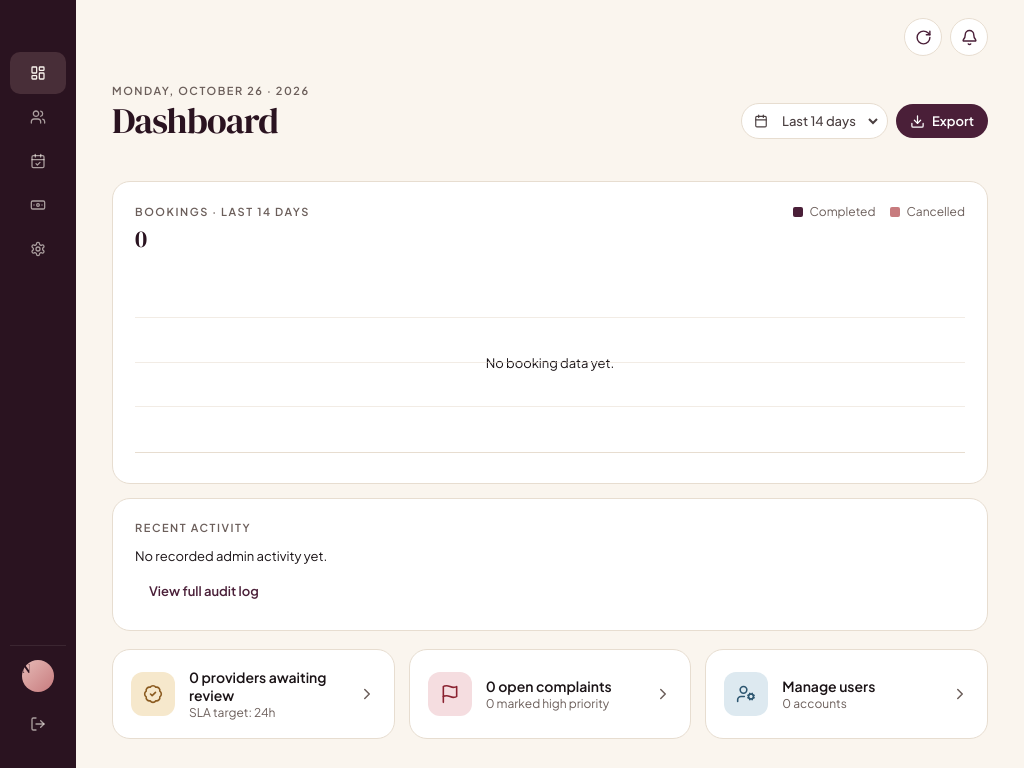
Test: <App> — CR-22 session start › shows no admin identity and no admin action until /auth/me answers
Expected: the button "Settlements" is not shown
Expected: the text "Commission rate" is not shown
Step 1. Click the 4th button named "Settlements" → {"x": 38, "y": 205}, box x1=10 y1=184 x2=66 y2=226
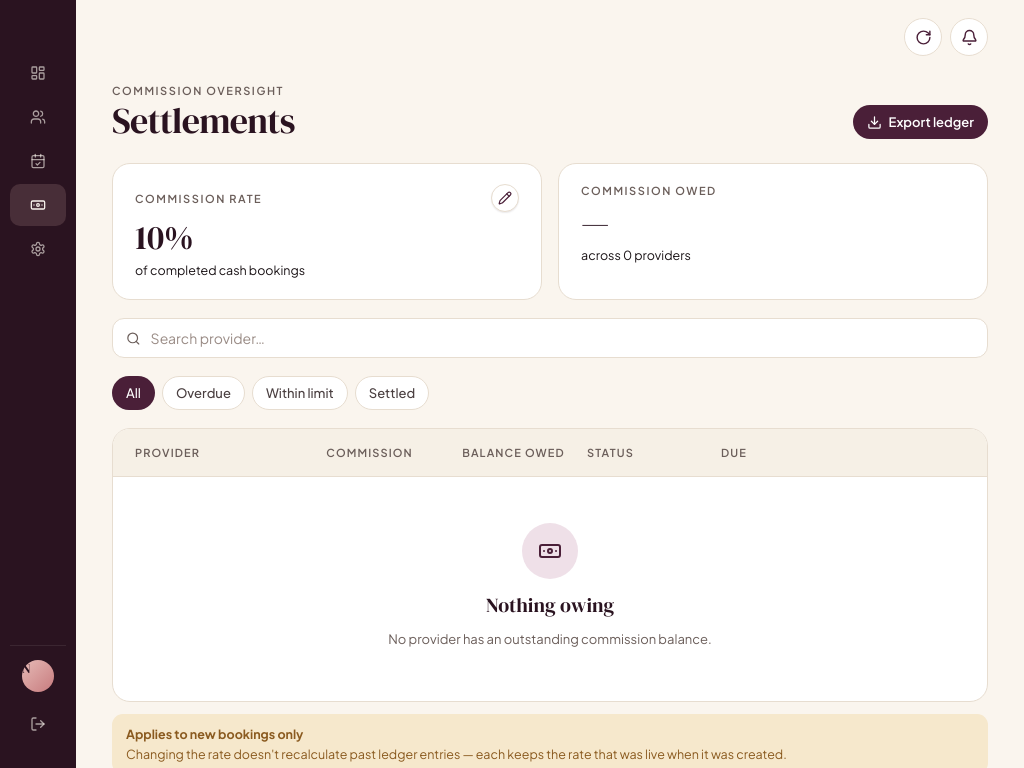
Now the text "Commission rate" is shown, box x1=135 y1=192 x2=262 y2=204
Now the button named "Edit commission rate" is shown, box x1=491 y1=184 x2=519 y2=212
